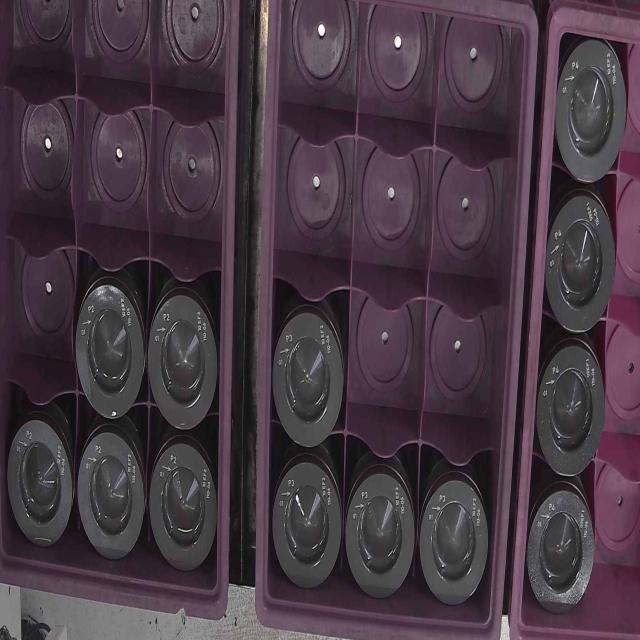P2: (5, 415, 76, 558), (148, 290, 218, 432), (78, 422, 148, 562), (152, 442, 220, 575), (76, 286, 142, 422)
P3: (271, 452, 344, 597), (272, 306, 345, 444), (347, 460, 418, 596), (419, 478, 488, 605)
P4: (556, 41, 628, 186), (548, 197, 615, 337), (528, 488, 596, 618), (540, 348, 604, 476)
